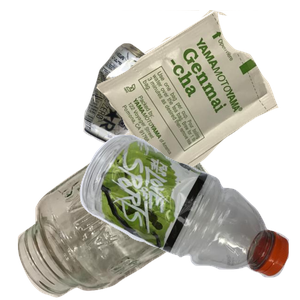glass: (15, 126, 229, 300)
metal: (81, 41, 234, 178)
plastic: (77, 132, 300, 300)
trash: (91, 10, 300, 186)
